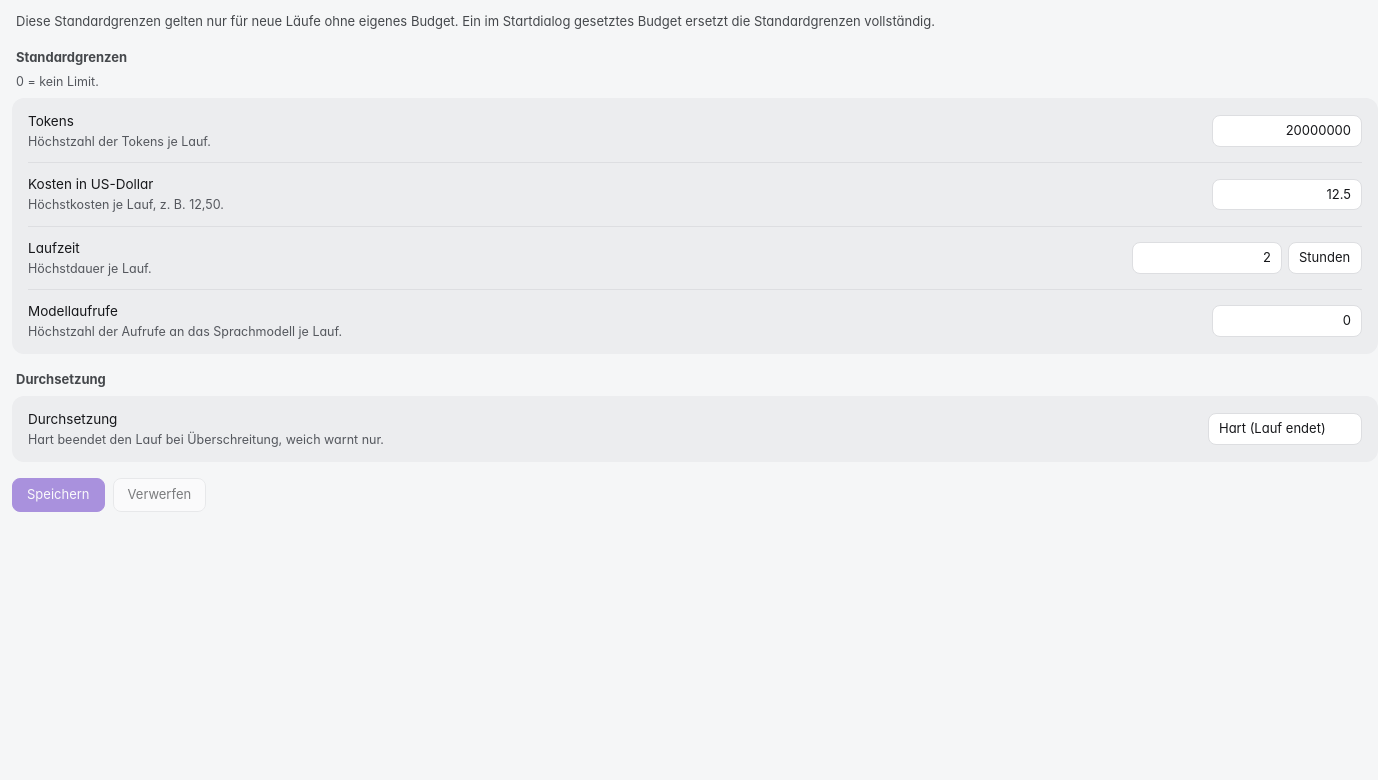
Test case: SectionBudgets › lehnt ungültige Eingaben ab, ohne die API aufzurufen
This screenshot has width=1378, height=780.
Replace the text in the field with id "budget-tokens" with "1.5". click: (1287, 131)
box: left=1212, top=115, right=1362, bottom=147
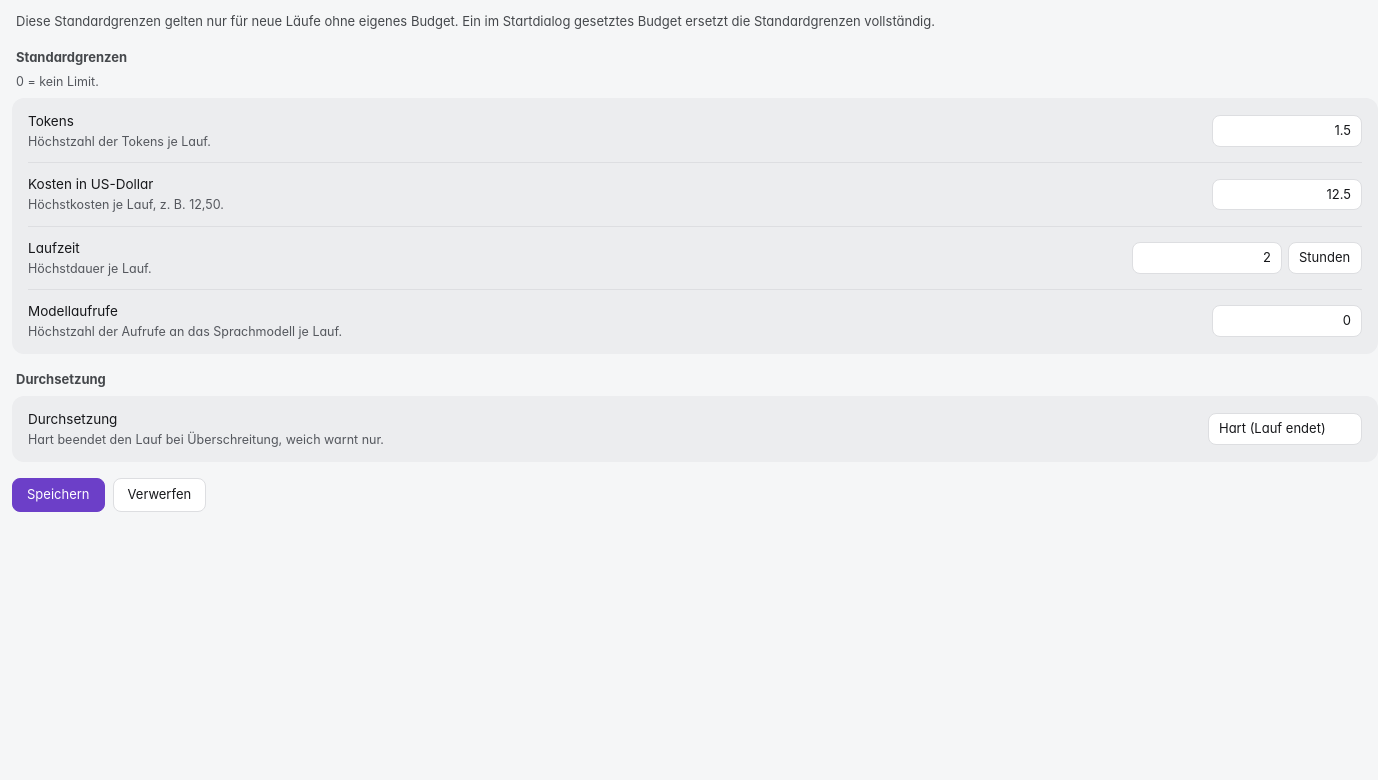
Replace the text in the field with id "budget-cost" with "abc". click: (1287, 194)
box: left=1212, top=179, right=1362, bottom=210
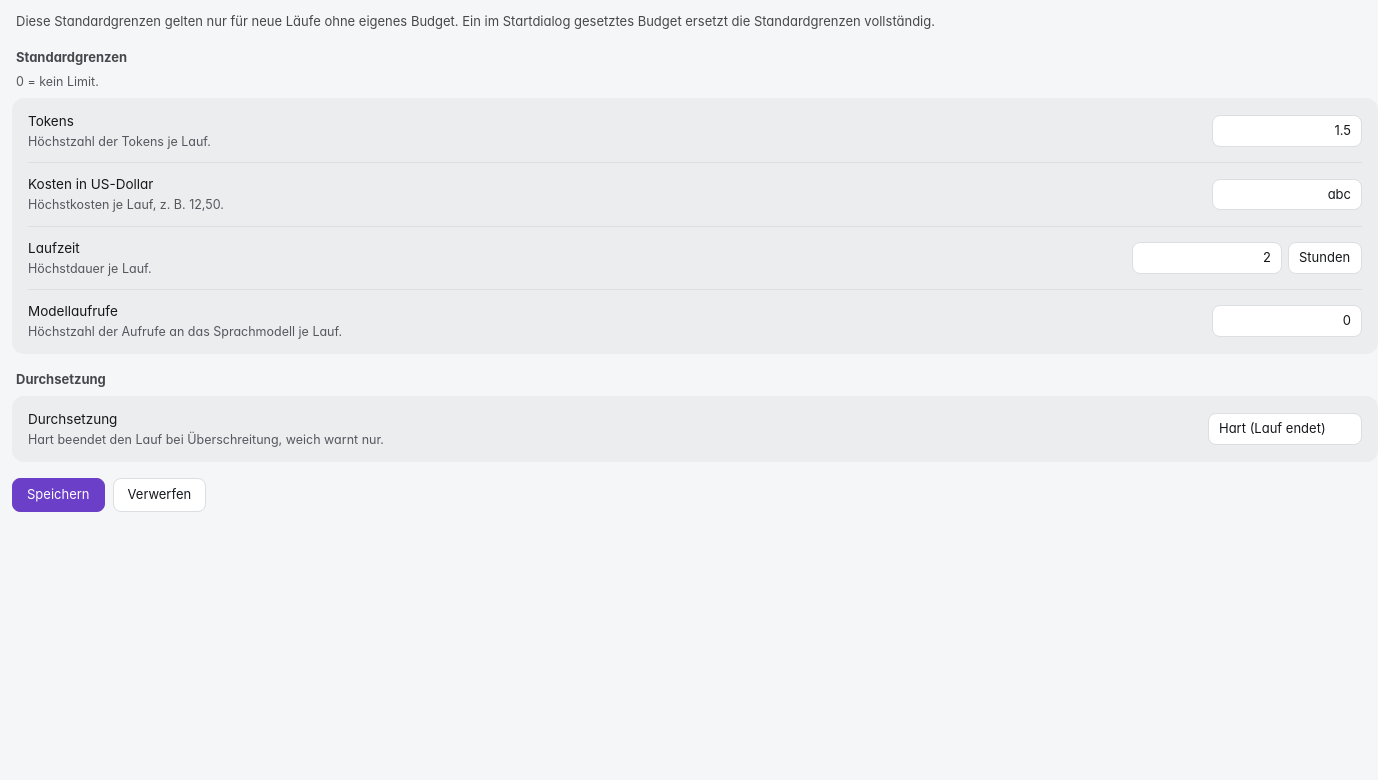
Submit the form, box left=12, top=48, right=1377, bottom=512
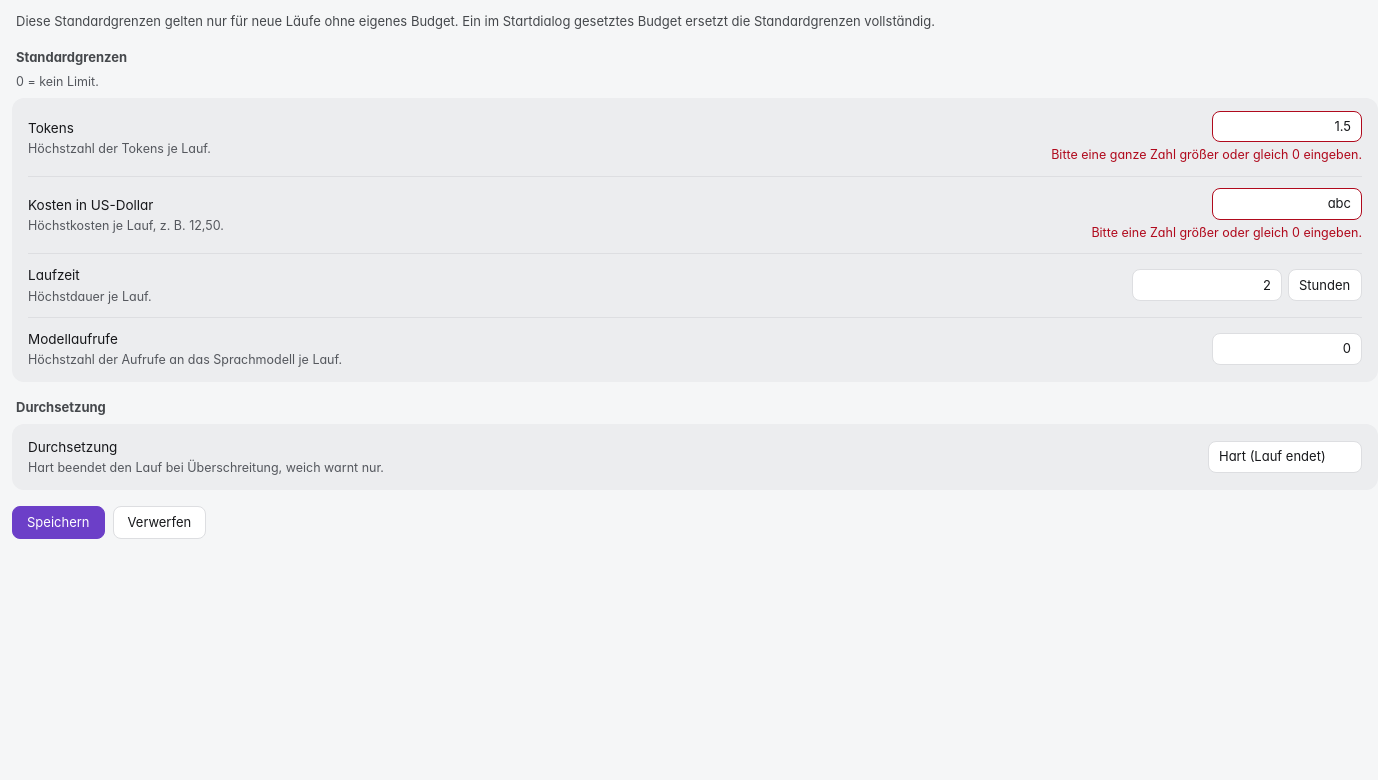
Check: the message with id "budget-tokens-err" shows "ganze Zahl", box left=1051, top=147, right=1362, bottom=162
Check: the message with id "budget-cost-err" shows "Zahl", box left=1091, top=224, right=1362, bottom=240
